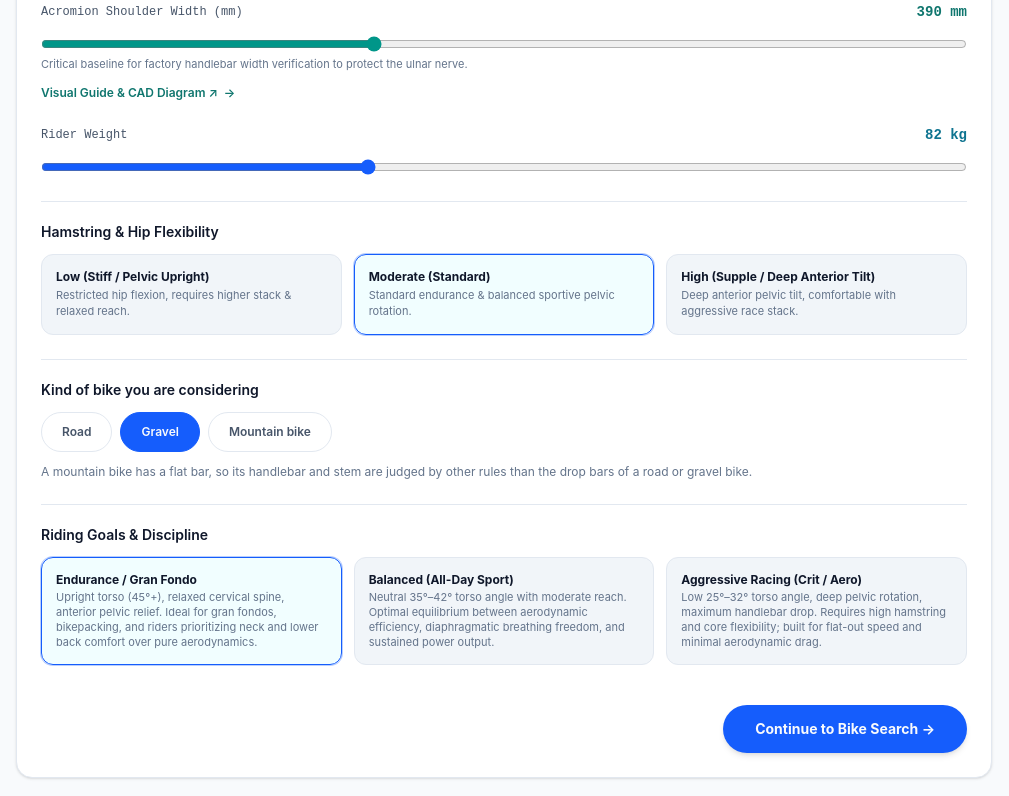
Path B: the way to the bike finder (en) › should ask the questions of the kind of bike chosen in step 1
(page scrolled)
Click the button "Continue to Bike Search →": (845, 729) [723, 705, 967, 753]
(page scrolled)
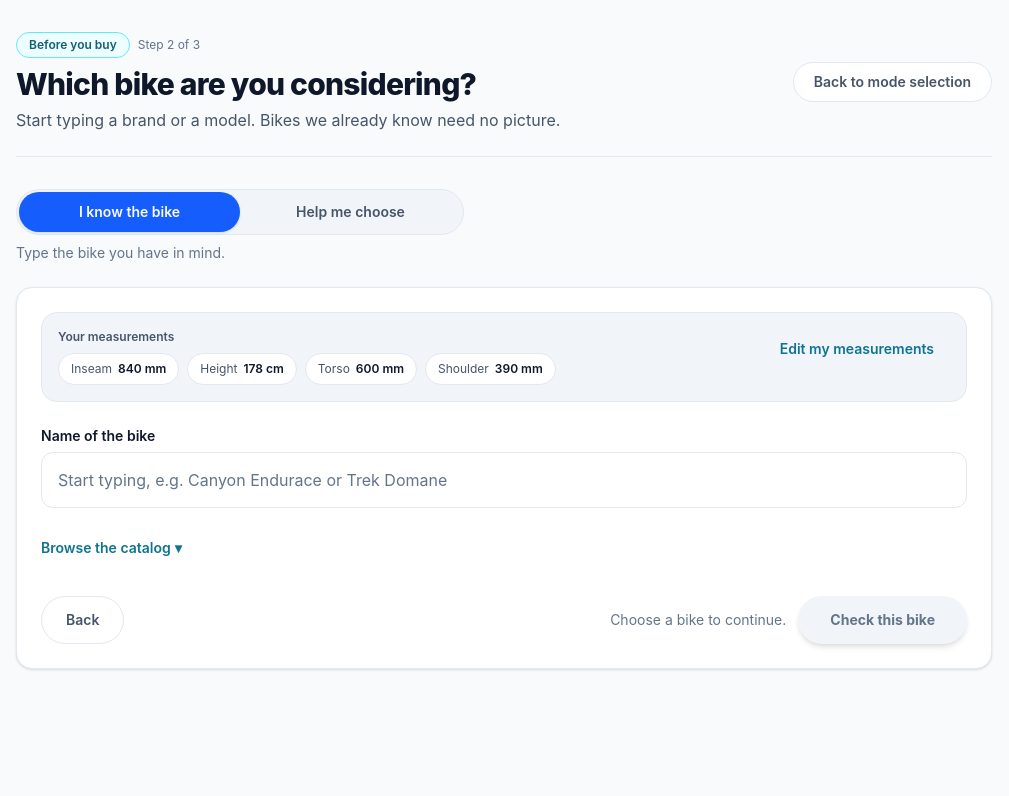
Click the tab "Help me choose": (350, 212) [240, 192, 461, 232]
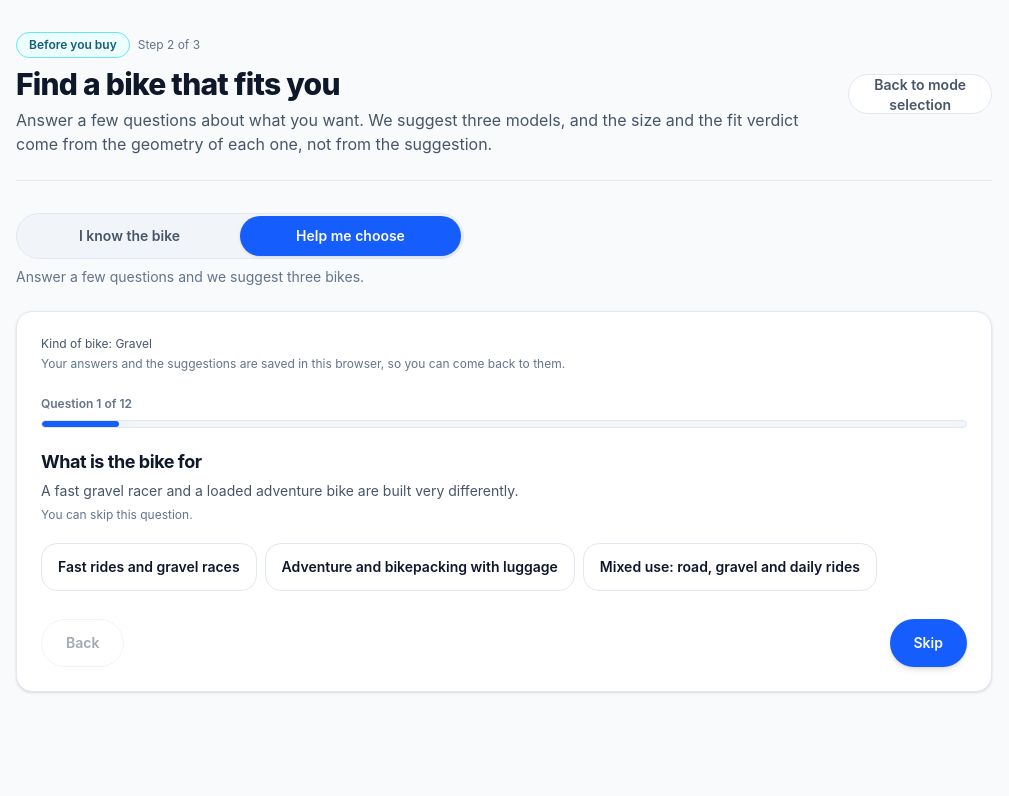
Expected: the heading "What is the bike for" is shown, [41, 451, 202, 472]
